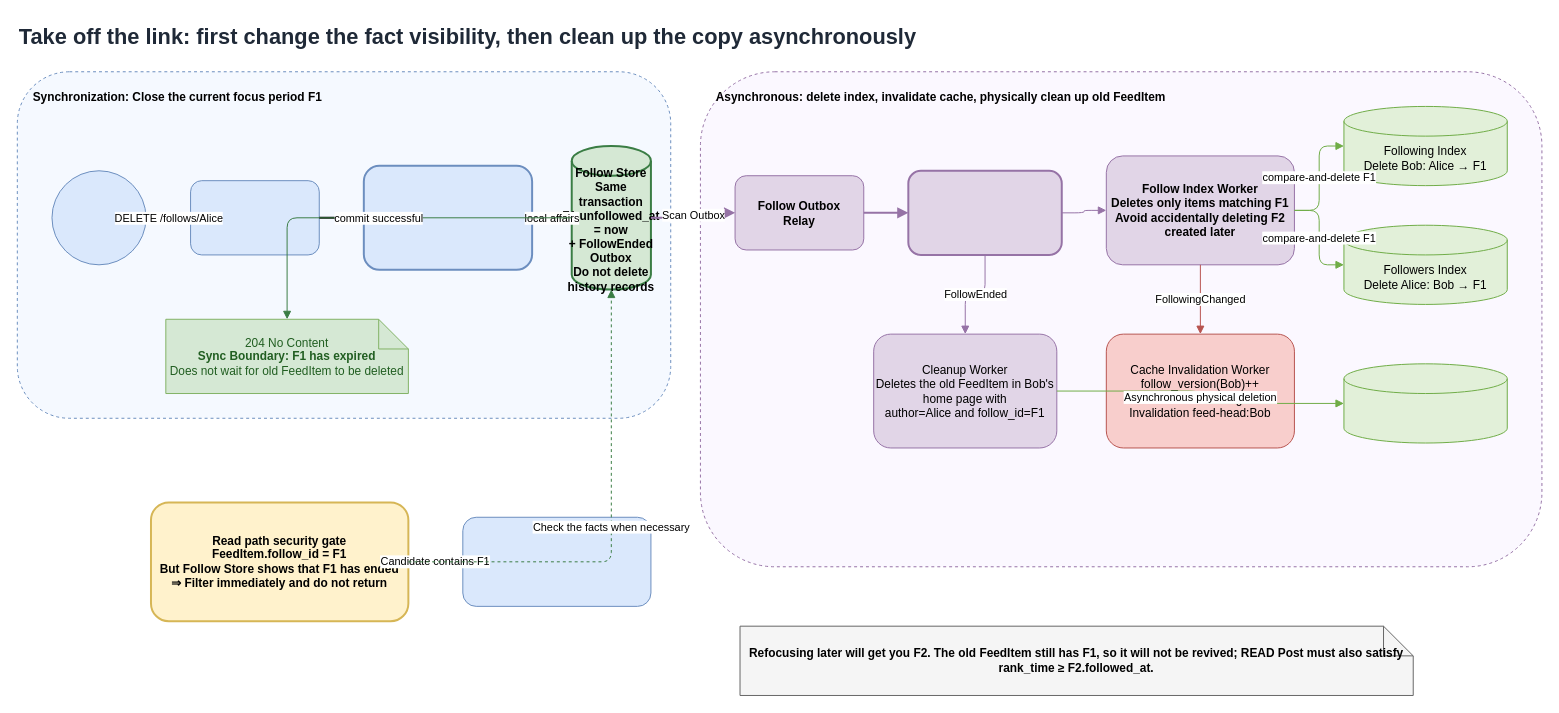
This 1559x713 diagram has some shape labels left out. The centre of each missing label's shape, as x and y in pixels:
API Gateway Authentication / Current Limitation: point 254,217
Bob Follower: point 98,217
Feed Query Service Found cached or derived items still with F1: point 556,561
FeedItem Store Physical cleanup may be delayed: point 1425,403
Follow Service Find Bob → Alice Currently valid follow_id = F1: point 447,217
FollowEvents Topic FollowEnded(F1): point 984,212
